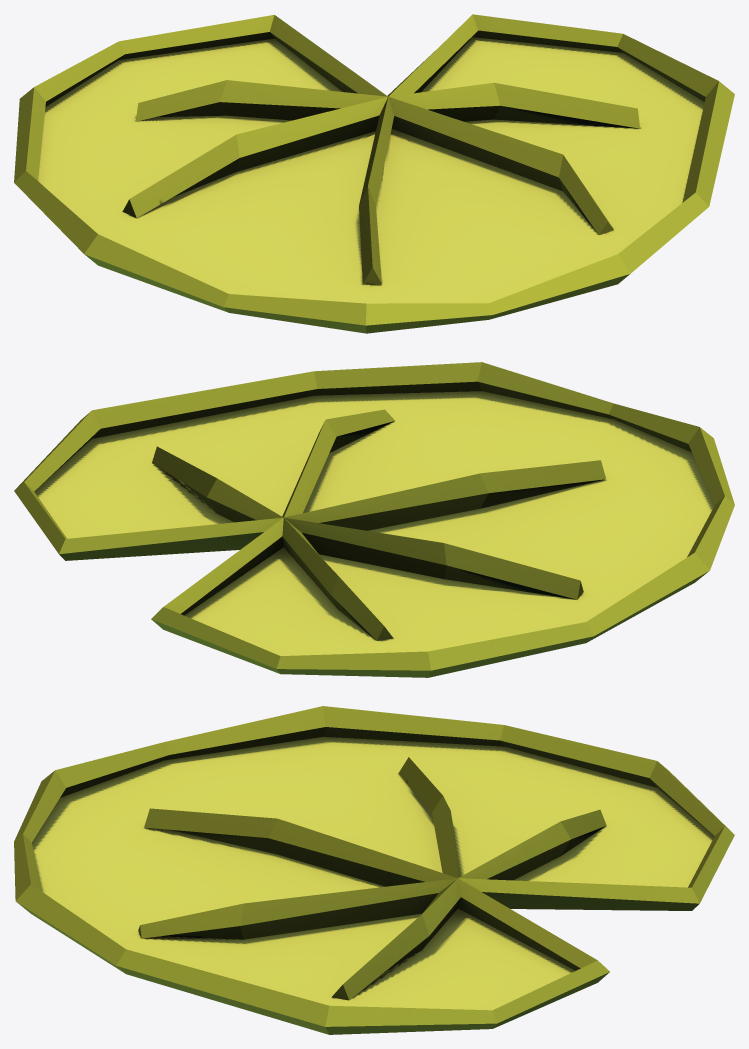
Rendered from Lily_pad.glb.
3 renders of one model, top to bottom at view 1: azimuth 30°, elevation 25°; view 2: azimuth 150°, elevation 25°; view 3: azimuth 270°, elevation 25°, orthographic. The views are drawn at different scales.
Parts seen in each view (by area): view 1: lily_pad; view 2: lily_pad; view 3: lily_pad.
Part boxes in pixels (bbox=[...]): lily_pad: bbox=[14, 14, 734, 333]; lily_pad: bbox=[14, 362, 734, 677]; lily_pad: bbox=[14, 706, 734, 1034].
Size of the model in its own units: 1.59 by 0.0877 by 1.56.
Materials: 1 (1 with a texture image).
